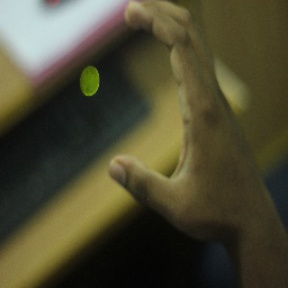C: (115, 1, 241, 229)
